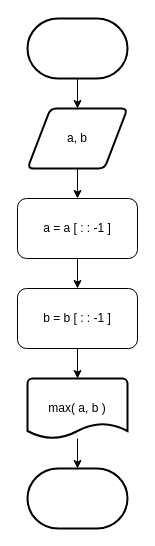
This 155x546 diagram has some shape labels left out. Each missing label, with the centre of its shape:
finish: (77,498)
start: (77,48)
